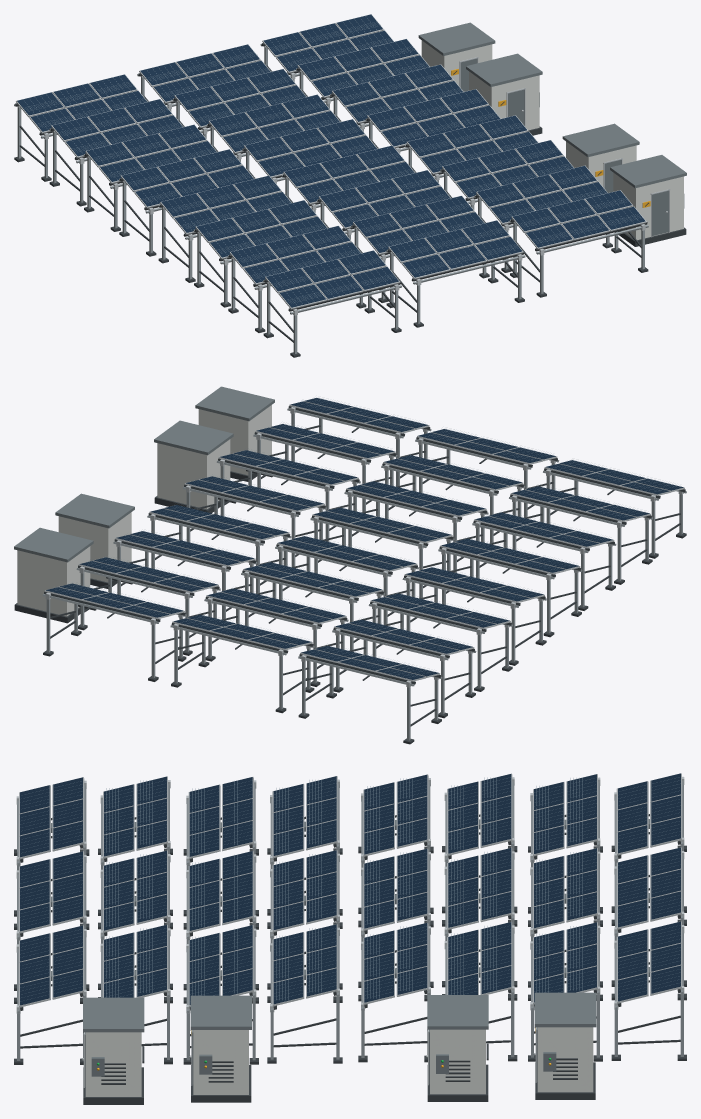
Rendered from parque_solar.glb.
3 renders of one model, top to bottom at view 1: azimuth 30°, elevation 25°; view 2: azimuth 150°, elevation 25°; view 3: azimuth 270°, elevation 25°, orthographic. The views are drawn at different scales.
Parts seen in each view (by area): view 1: Usina_FV_unificado; view 2: Usina_FV_unificado; view 3: Usina_FV_unificado.
Boxes of the visible parts, left/top/right/bottom form: Usina_FV_unificado: left=14, top=14, right=686, bottom=357; Usina_FV_unificado: left=14, top=386, right=686, bottom=744; Usina_FV_unificado: left=14, top=773, right=686, bottom=1104.
Size of the model in its own units: 19.74 by 2.7 by 21.69.
